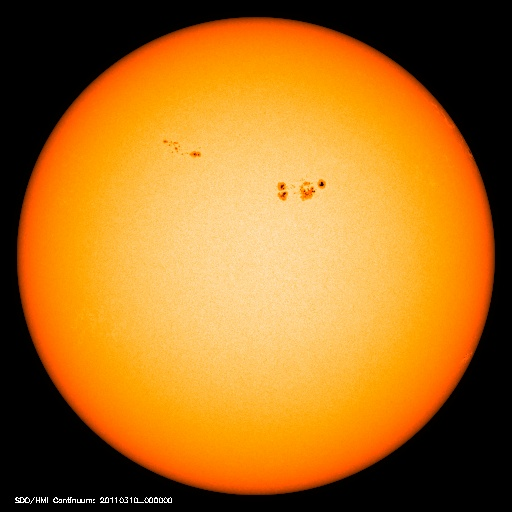sunspot: (268, 173, 332, 206), (155, 134, 207, 164)
